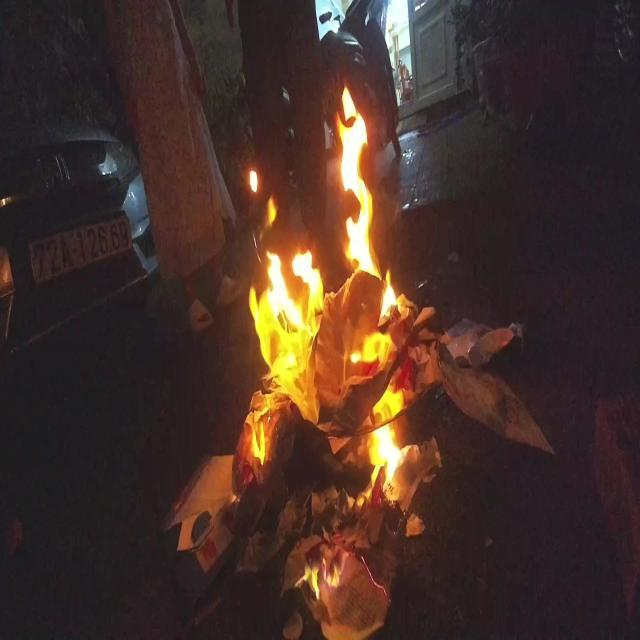Fire: (250, 82, 410, 603)
